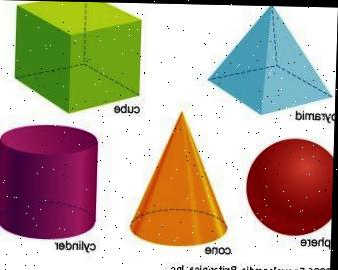cube: (13, 0, 142, 113)
